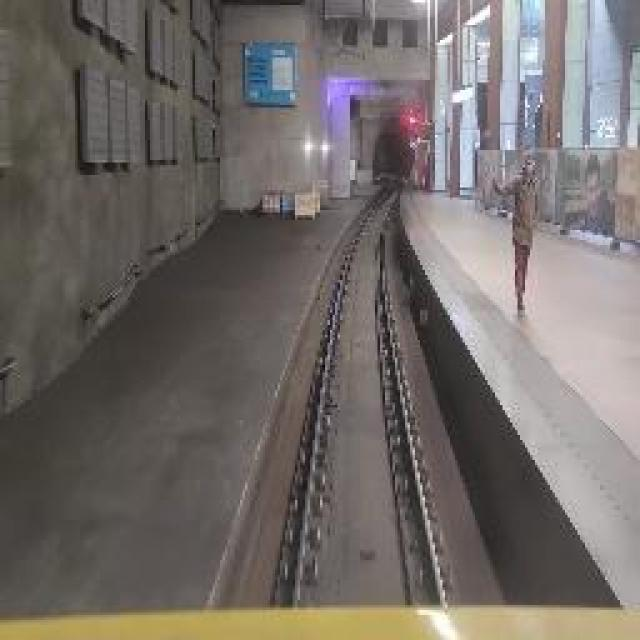rail: (258, 188, 469, 606)
